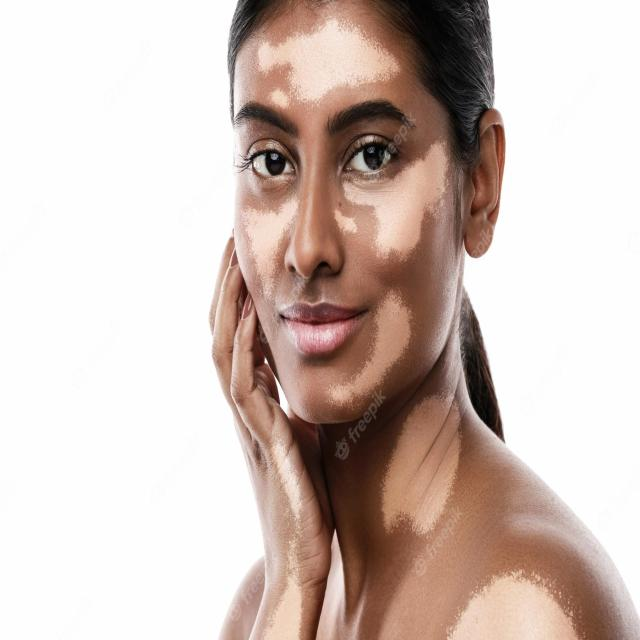vitiligo: (237, 13, 455, 396), (265, 391, 585, 640), (222, 0, 231, 13)
